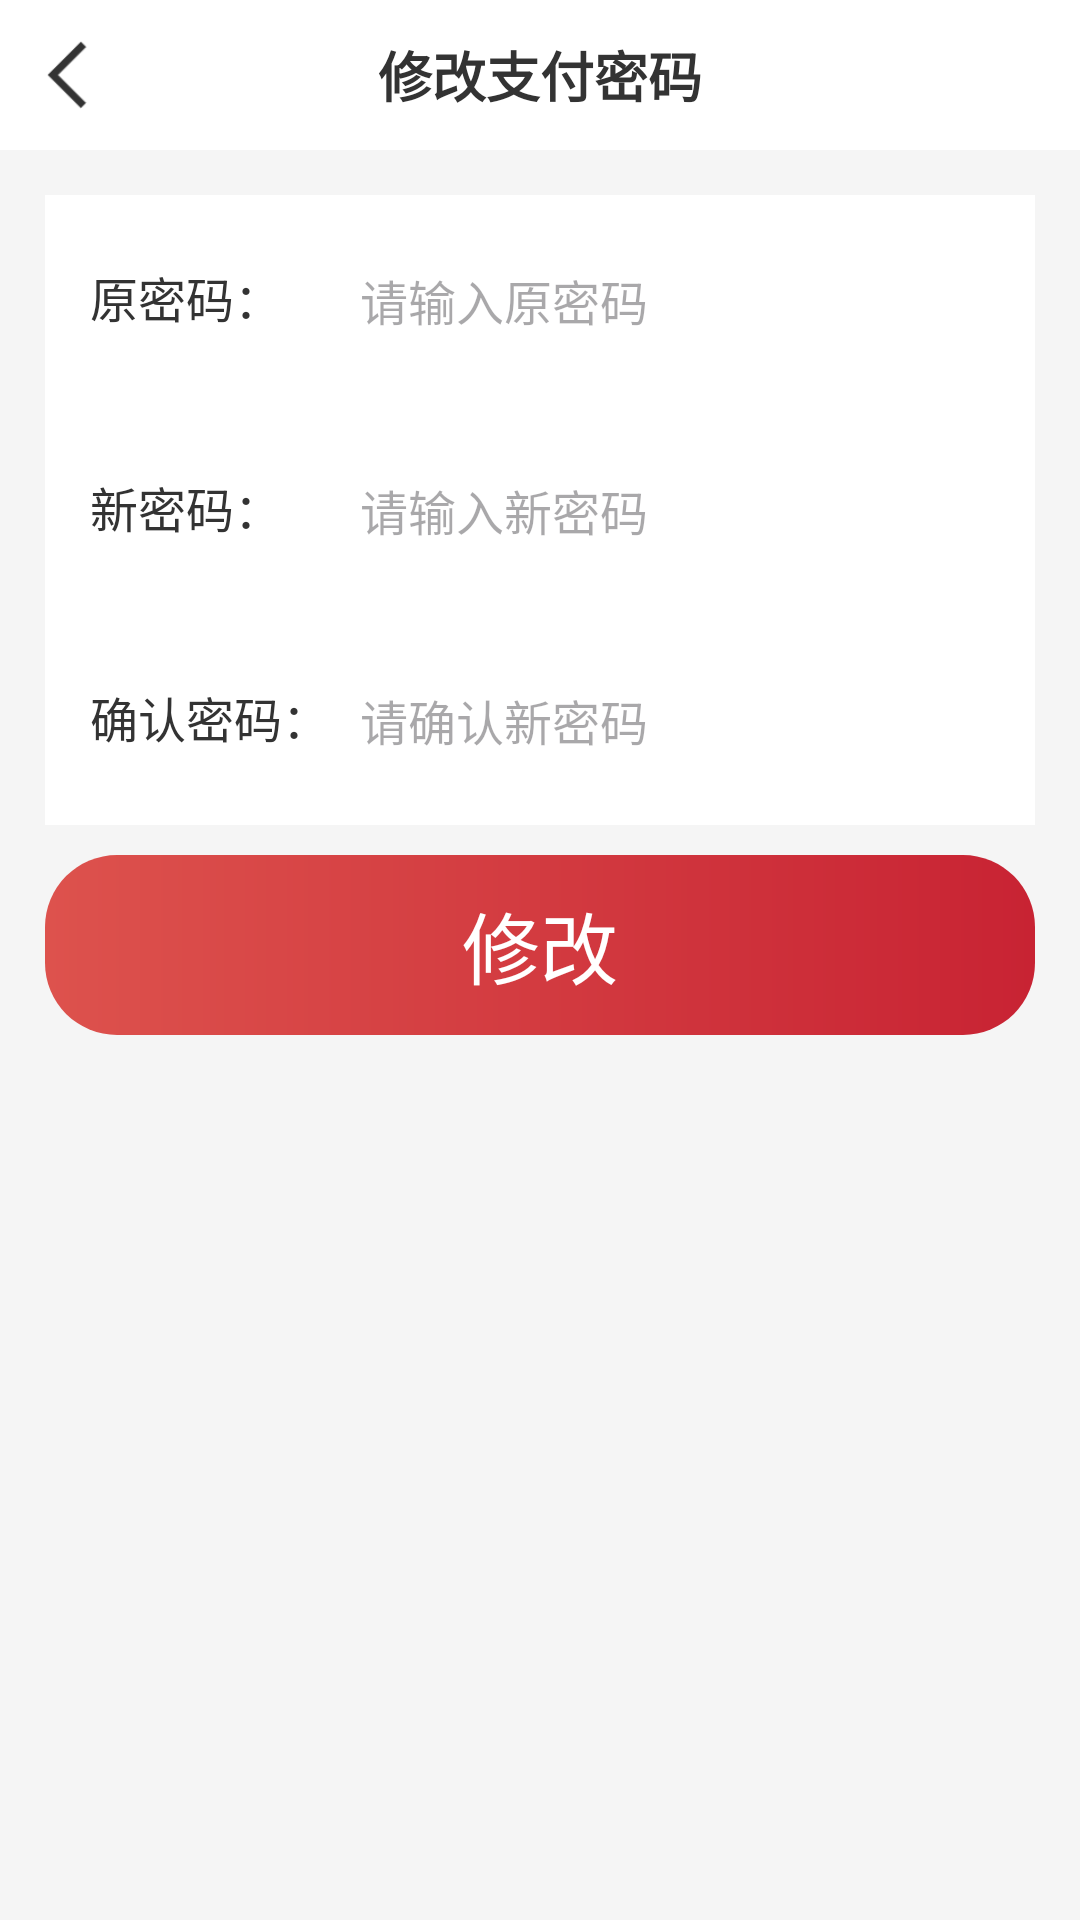

Named icons in this screenshot (1080px x 1920px) and their centers, (x,y):
arrow left: (67,75)
